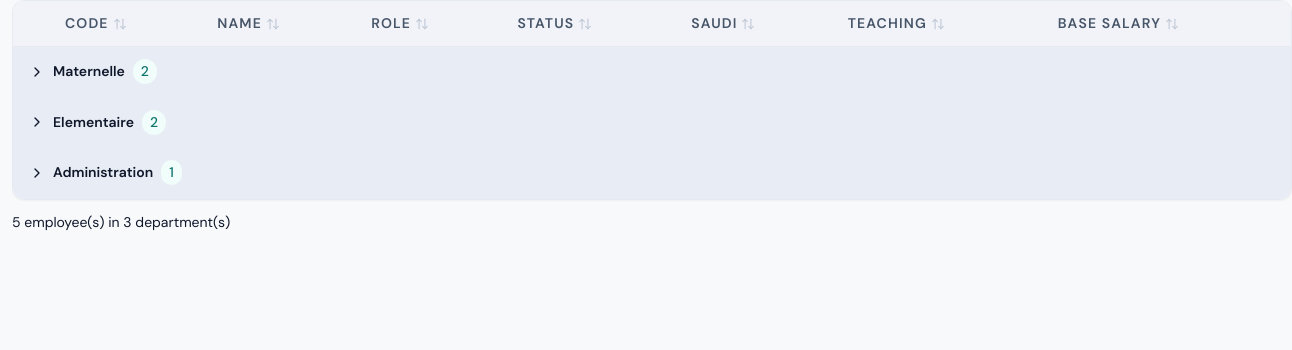
Test: EmployeeGrid department grouping › clicking an expanded group header collapses it
The image size is (1292, 350).
Click the text "Maternelle". click: (89, 72)
box: [53, 61, 125, 82]
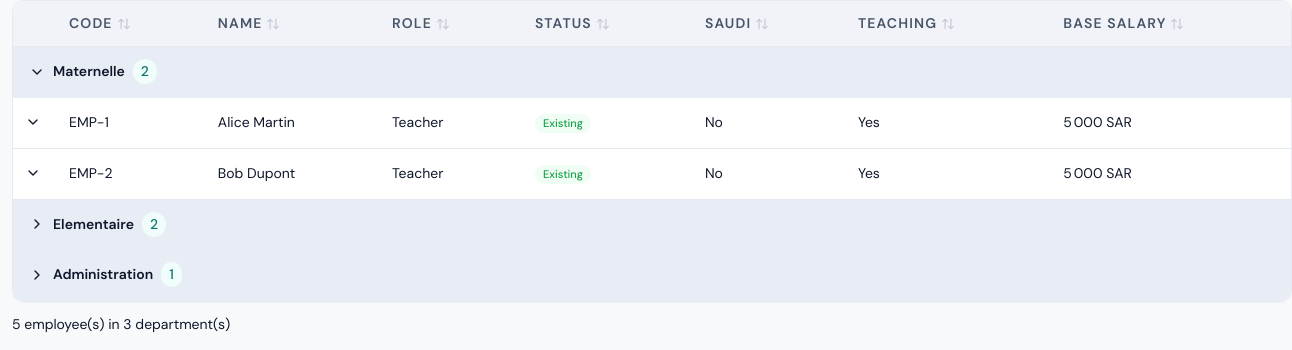
Check: the text "Alice Martin" is shown, box [202, 98, 376, 148]
Click the text "Maternelle". click: (89, 72)
box: [53, 61, 125, 82]
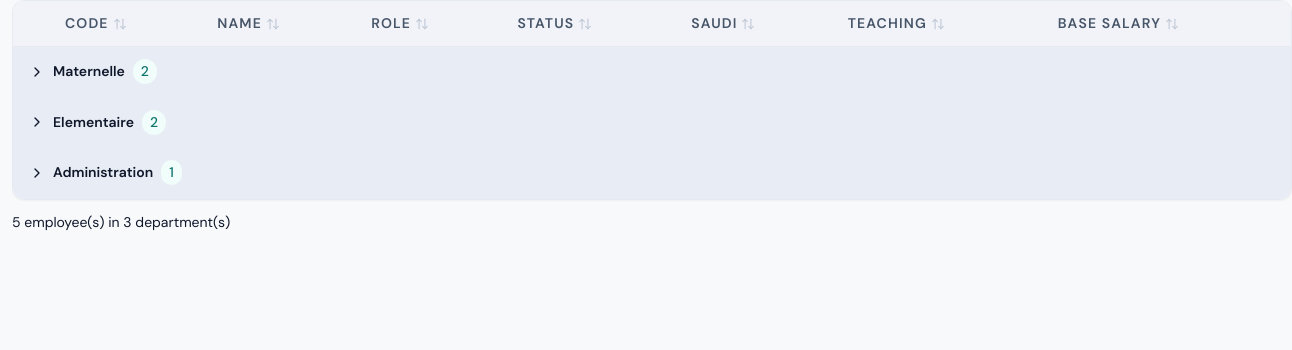
Check: the text "Alice Martin" is gone
